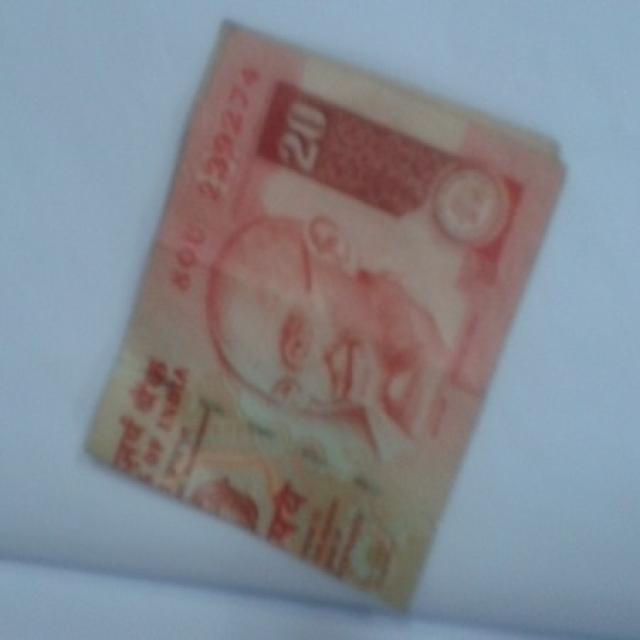20rs: (82, 18, 569, 624)
